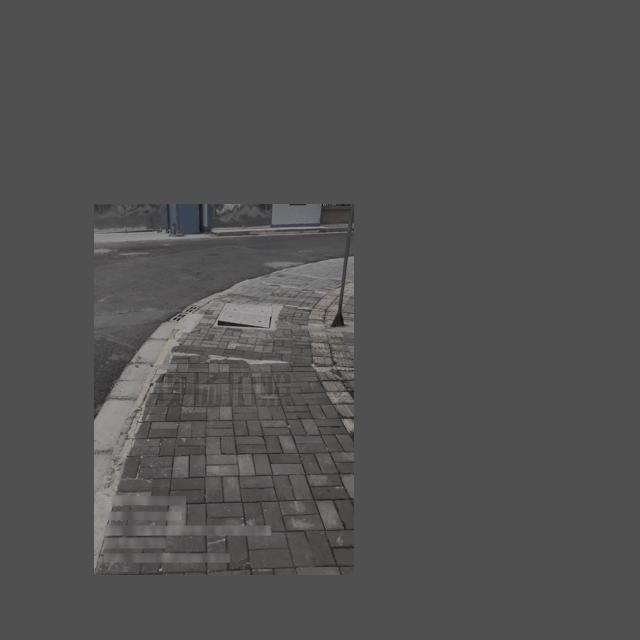uncovered: (211, 303, 277, 330)
